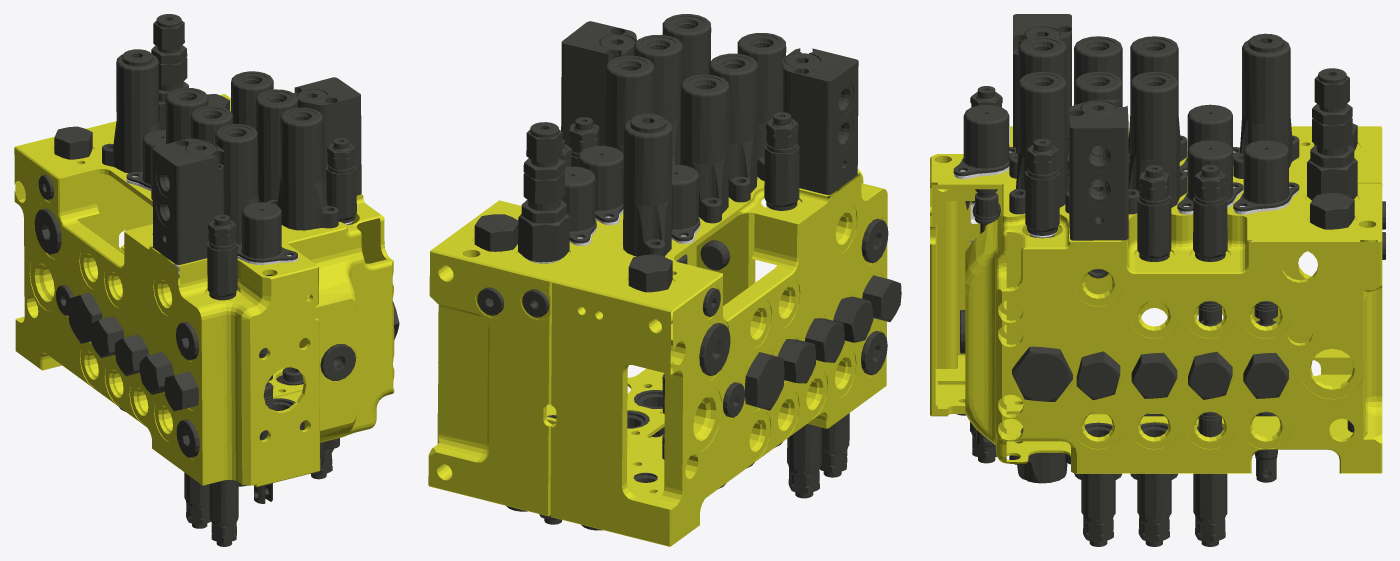
Rendered from controlvalve.glb.
The picture shows the model from 3 angles, left to right: view 1: azimuth 30°, elevation 25°; view 2: azimuth 150°, elevation 25°; view 3: azimuth 270°, elevation 25°; orthographic projection. The views are drawn at different scales.
Bounding box in the file's own units: 0.4344 × 0.6673 × 0.621.
